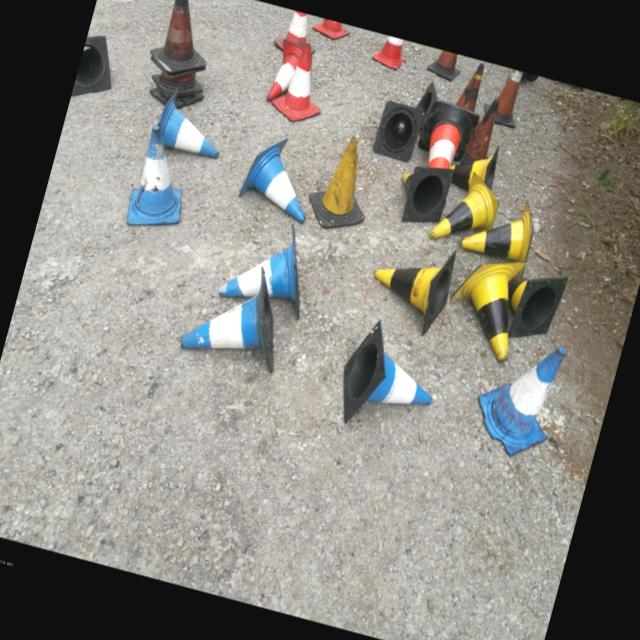blue_cone: (330, 314, 448, 442), (178, 252, 298, 372), (466, 329, 570, 464), (216, 210, 321, 319), (123, 124, 202, 237), (235, 130, 324, 224), (152, 86, 232, 159)
large_orange_cone: (413, 96, 481, 176)
orange_cone: (268, 38, 336, 128), (264, 38, 304, 107), (272, 8, 323, 58), (370, 33, 410, 71)
unknown_cone: (302, 126, 385, 237), (145, 0, 225, 82), (70, 31, 124, 105), (458, 93, 504, 169), (371, 100, 425, 164), (479, 64, 528, 128), (454, 59, 486, 111), (425, 47, 464, 82)
yellow_cone: (438, 245, 532, 364), (362, 231, 459, 340), (456, 186, 541, 278), (427, 164, 504, 253), (494, 262, 568, 348), (390, 157, 453, 230), (444, 134, 503, 198)
